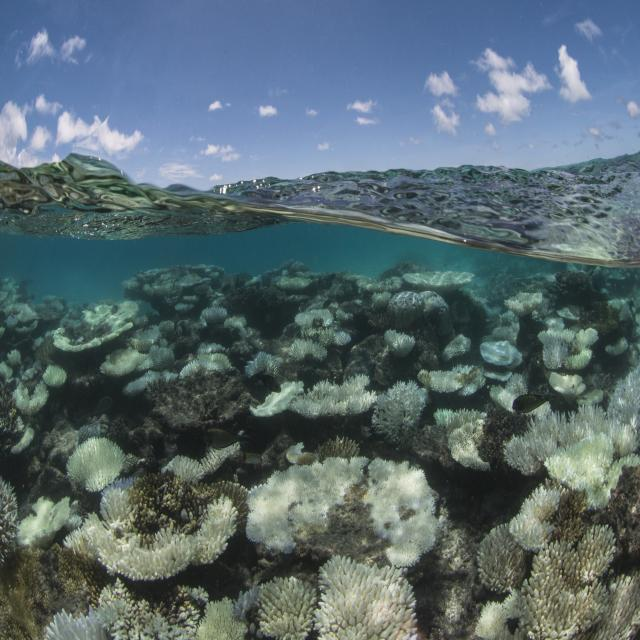Bleached Coral: (75, 518, 256, 588), (259, 444, 359, 548), (528, 527, 618, 640), (372, 449, 446, 576), (322, 560, 422, 636), (251, 373, 373, 426), (53, 596, 196, 640), (62, 430, 132, 505), (504, 419, 575, 481), (255, 571, 317, 640), (506, 478, 562, 554), (438, 404, 494, 473), (554, 435, 615, 496), (367, 380, 433, 435), (535, 318, 596, 375), (416, 353, 487, 398), (479, 523, 522, 589), (608, 364, 640, 452), (178, 337, 235, 377), (23, 499, 69, 542), (406, 266, 469, 294), (54, 328, 134, 350), (197, 605, 249, 637), (101, 348, 146, 382), (85, 297, 139, 322), (481, 336, 520, 369), (289, 340, 330, 368), (13, 385, 51, 415), (245, 352, 279, 385), (477, 600, 505, 640), (438, 331, 473, 361), (550, 372, 580, 406), (506, 290, 544, 316), (385, 327, 413, 362), (120, 377, 181, 393), (228, 589, 262, 616), (149, 341, 177, 373), (43, 365, 70, 392), (602, 334, 627, 362), (295, 311, 336, 328), (611, 299, 637, 325), (12, 430, 38, 455), (133, 325, 158, 351), (226, 313, 251, 337), (204, 305, 229, 327), (372, 287, 388, 313), (18, 300, 37, 321), (10, 346, 26, 368), (334, 331, 351, 349), (0, 361, 14, 376)
